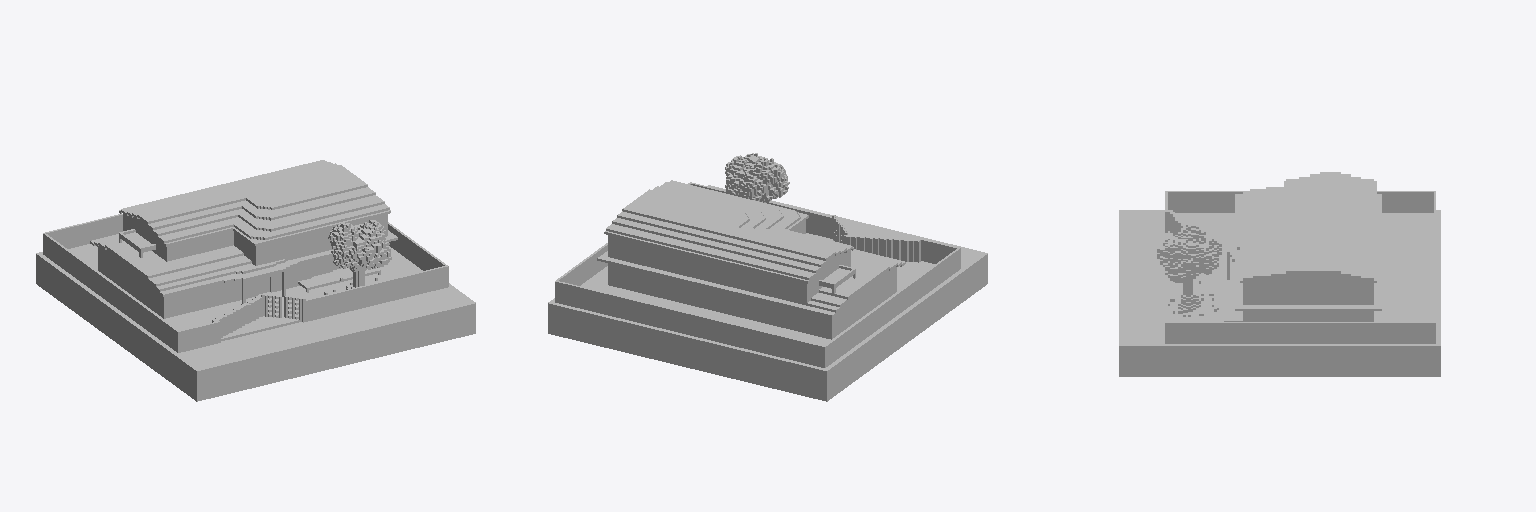
The model's file is Map (27).obj.
The picture shows the model from 3 angles: view 1: azimuth 30°, elevation 25°; view 2: azimuth 150°, elevation 25°; view 3: azimuth 270°, elevation 25°; orthographic projection.
Visible parts, largest first — view 1: ALL MAP!!!!!!!!!!!-24; view 2: ALL MAP!!!!!!!!!!!-24; view 3: ALL MAP!!!!!!!!!!!-24.
Boxes of the visible parts, <box> form: ALL MAP!!!!!!!!!!!-24: <box>36,160,475,401</box>; ALL MAP!!!!!!!!!!!-24: <box>548,153,987,401</box>; ALL MAP!!!!!!!!!!!-24: <box>1119,172,1440,376</box>.
Bounding box in the file's own units: 125 × 45 × 125.